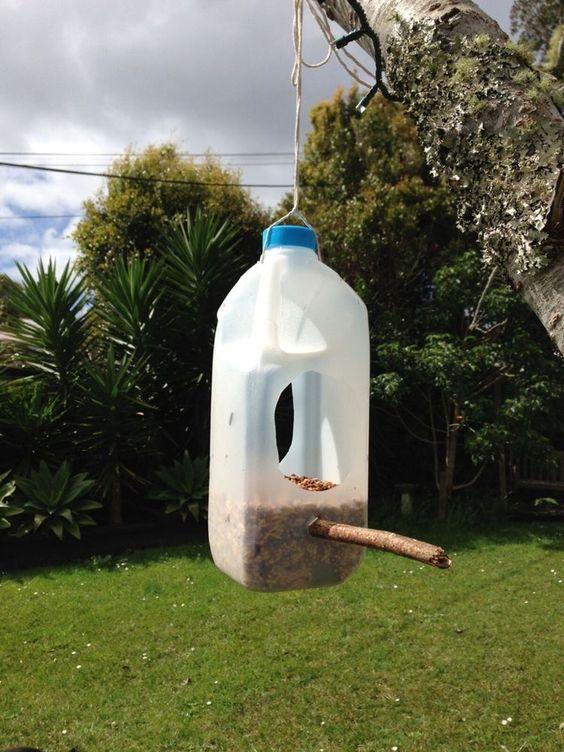HDPE: (206, 249, 370, 593), (259, 222, 318, 250)
